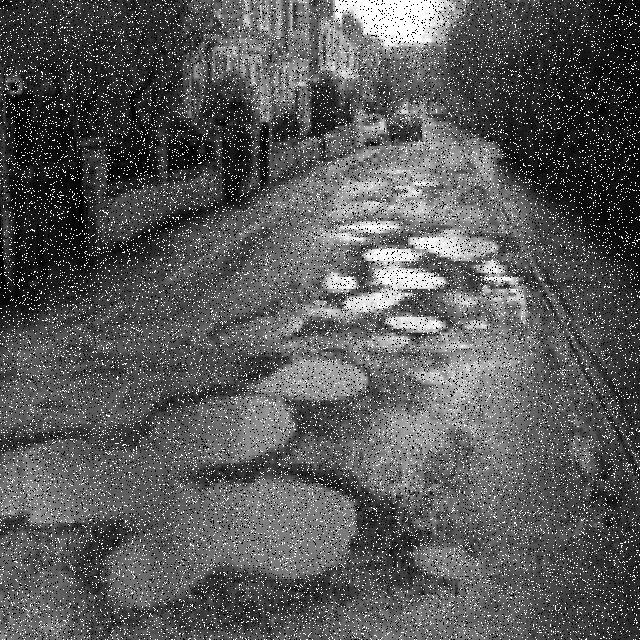pothole: (0, 356, 370, 611), (347, 237, 441, 313)
